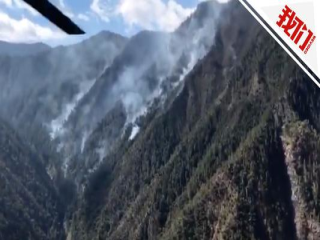smoke: (32, 43, 211, 168)
